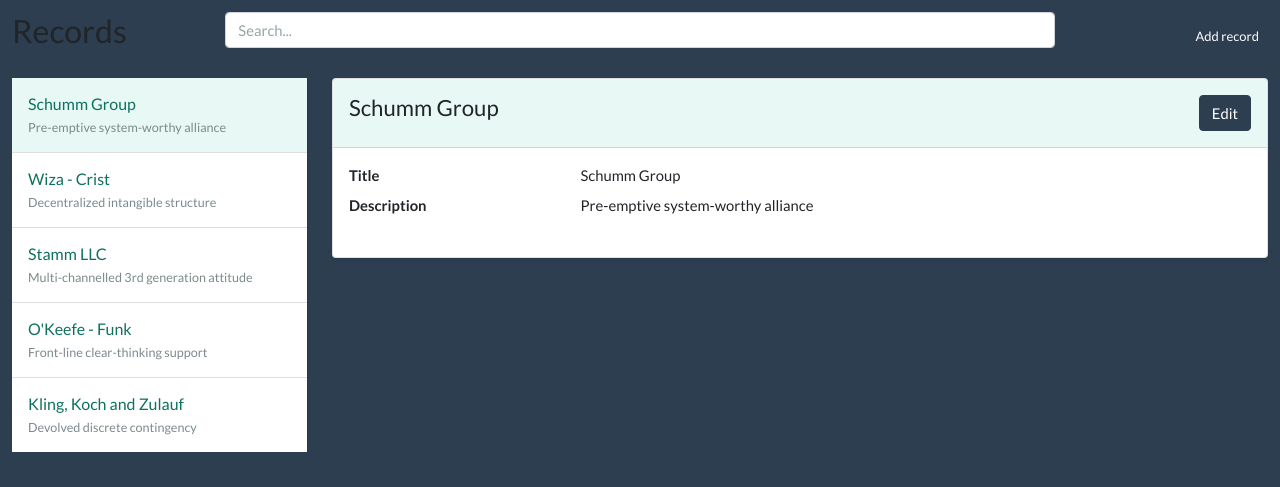
it: Editing an existing record › should display details of the record
This screenshot has width=1280, height=487.
Click the button "Edit" at (1225, 113), box [1199, 95, 1251, 131]
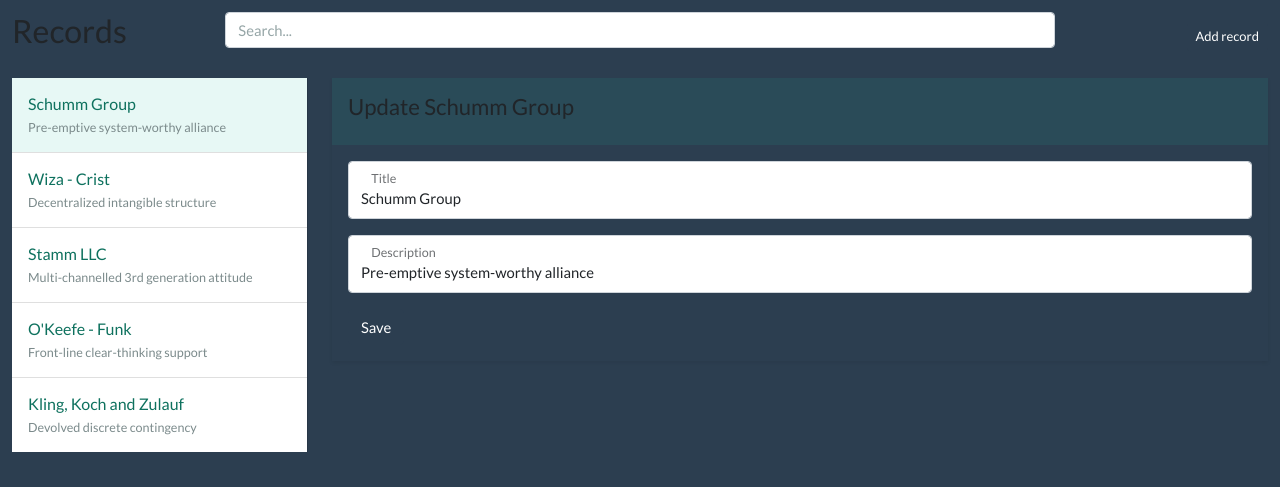
Type "Title 1" into the field labelled "Title" at (800, 190), box [348, 161, 1252, 219]
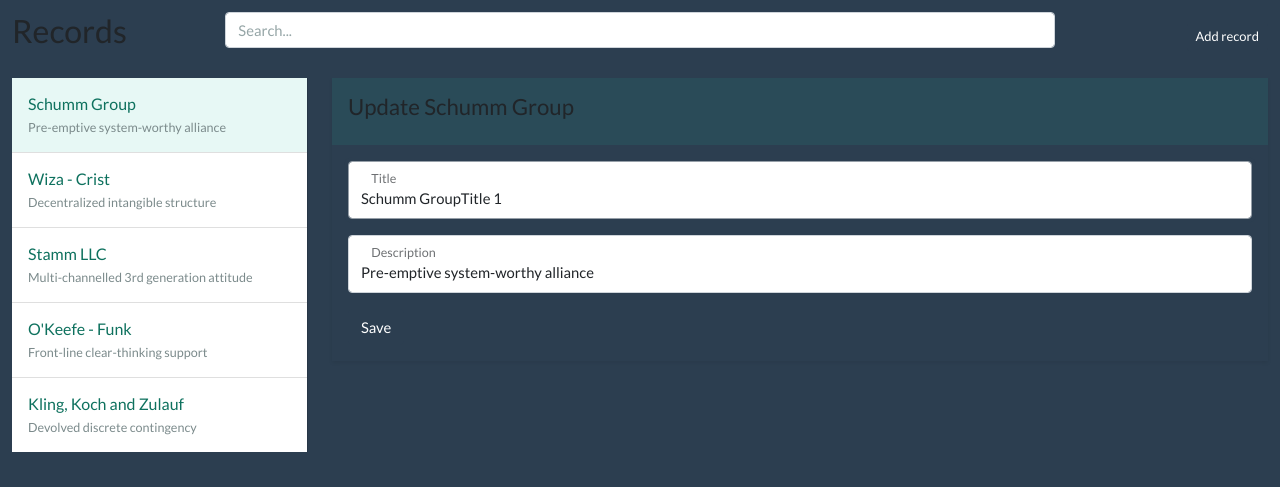
Type "Description 1" into the field labelled "Description" at (800, 264), box [348, 235, 1252, 293]
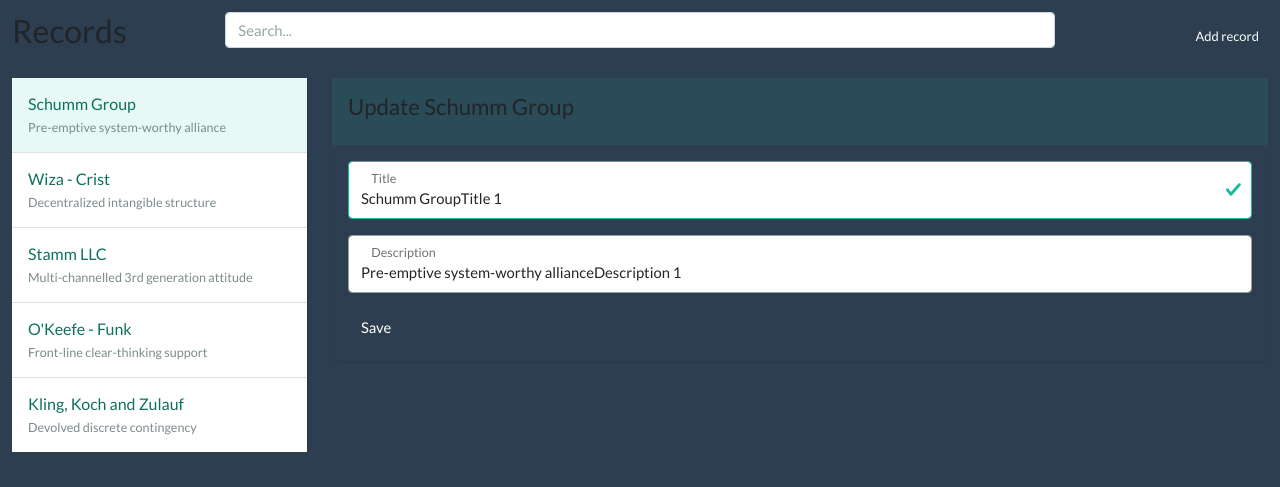
Click the button "Save" at (376, 327), box [348, 309, 404, 345]
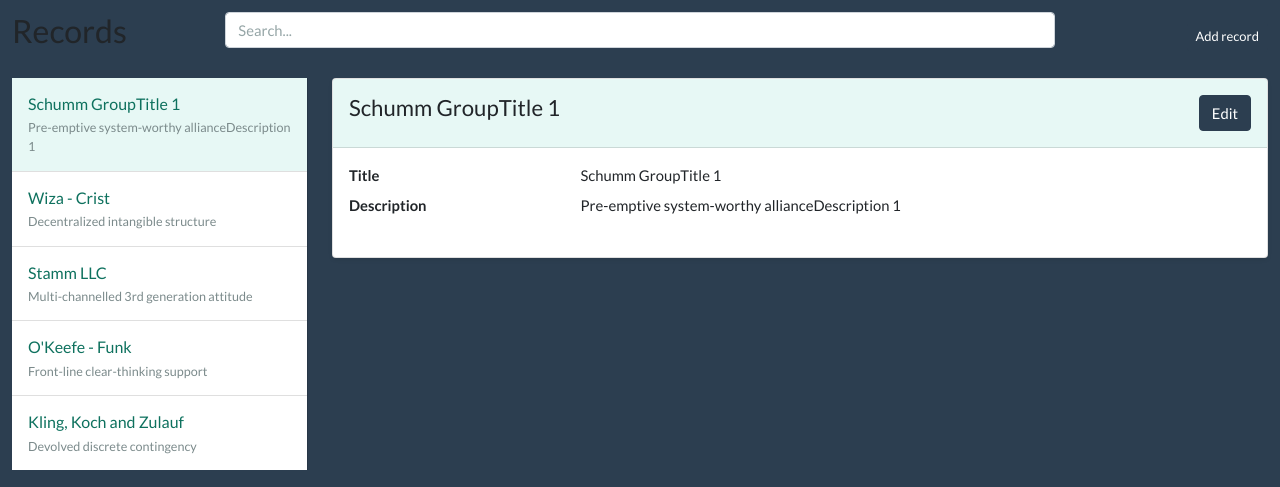
Result: the text "Title 1" is shown at [580, 166, 721, 184]
Result: the 2nd text "Description 1" is shown at [580, 196, 901, 214]
